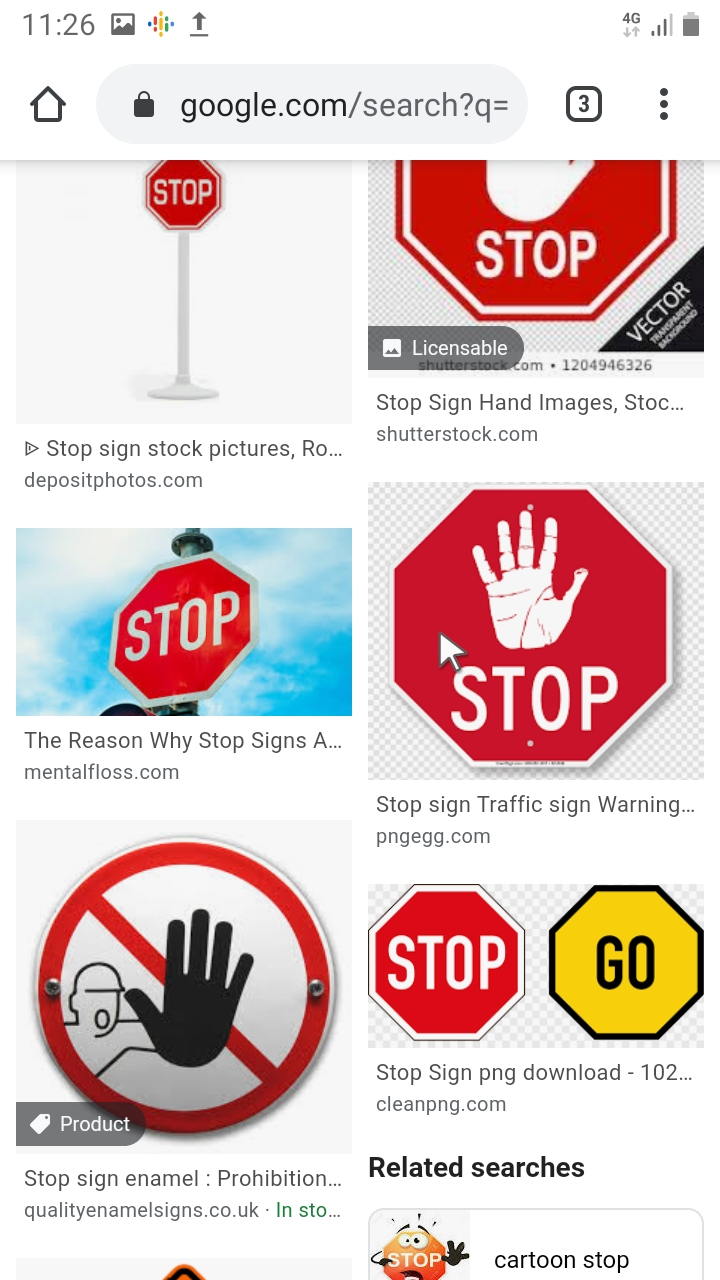go: (545, 872, 720, 1052)
stop: (355, 874, 531, 1045), (100, 551, 257, 708), (439, 655, 633, 757), (461, 219, 617, 300), (125, 165, 247, 237)
